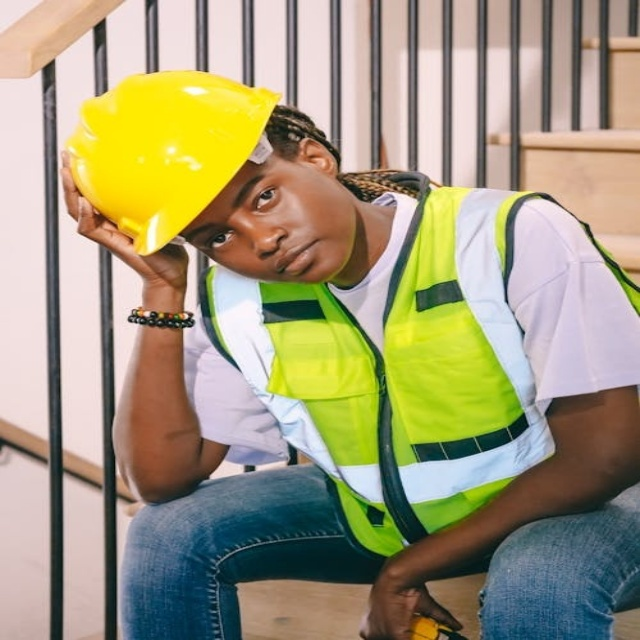Sin_gafas: (192, 166, 288, 248)
Sin_guantes: (49, 151, 196, 286), (355, 551, 462, 638)
Sin_mascara: (261, 232, 332, 286)
